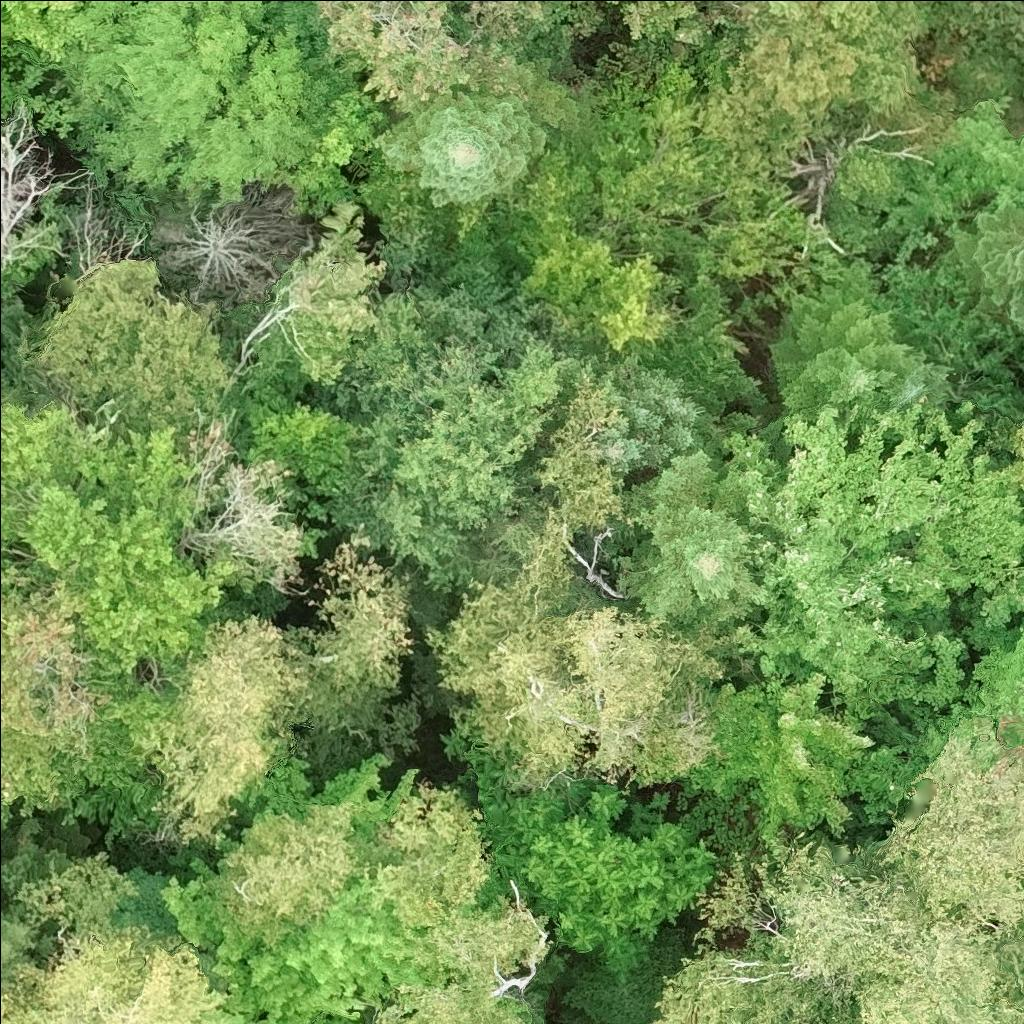crown: (711, 392, 1023, 732), (424, 498, 732, 797), (757, 717, 1023, 1023), (517, 73, 815, 335), (440, 725, 719, 985), (0, 398, 255, 677), (335, 288, 565, 591), (55, 0, 353, 207), (156, 854, 433, 1023), (129, 610, 320, 852), (667, 671, 878, 859), (701, 0, 933, 157), (645, 848, 836, 1023), (610, 444, 761, 634), (760, 255, 911, 445), (0, 562, 111, 818), (319, 0, 544, 118), (214, 798, 377, 949), (368, 895, 551, 1023), (0, 924, 230, 1023), (302, 540, 414, 736), (278, 199, 387, 392), (147, 184, 321, 303), (382, 88, 549, 207), (369, 784, 494, 932), (581, 348, 717, 479), (535, 367, 625, 541), (939, 191, 1023, 344), (0, 114, 76, 267), (606, 0, 726, 51), (886, 340, 959, 422), (0, 0, 81, 61), (0, 903, 43, 999), (766, 0, 854, 27), (1003, 424, 1023, 494), (217, 1010, 272, 1023), (999, 736, 1023, 763), (814, 1008, 852, 1023), (0, 808, 11, 834)
